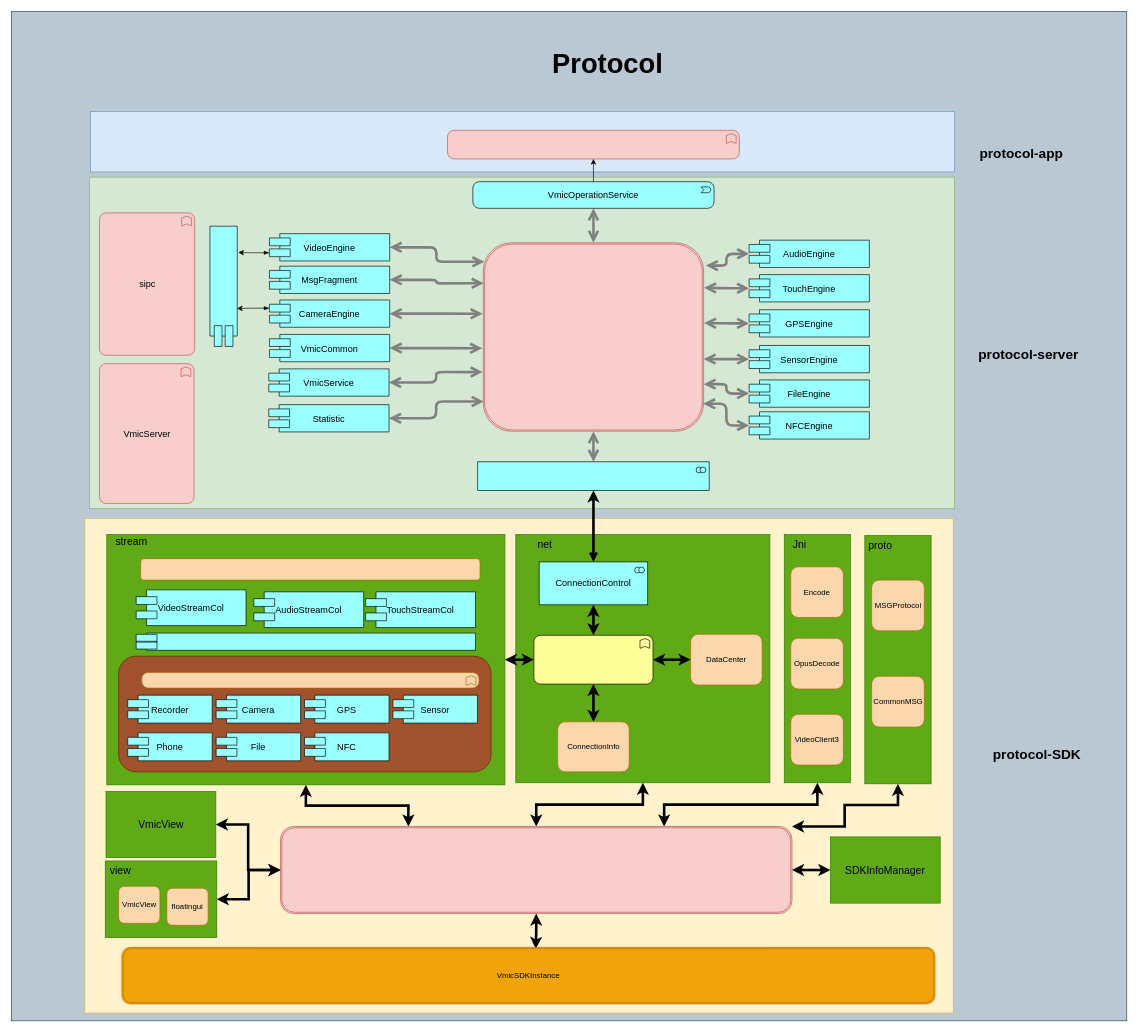
This 1138x1032 diagram has some shape labels left out. Each missing label, with the box of its shape:
Codec: (209, 226, 237, 346)
CommandStreamCol: (136, 632, 475, 650)
Communication: (477, 461, 709, 490)
CommunicationManager: (533, 635, 653, 684)
RemoteOperation: (447, 130, 739, 159)
StreamManager: (140, 558, 480, 580)
ThirdServiceControl: (141, 672, 479, 688)
VmicAgent: (483, 242, 704, 431)
VmicSDKManager: (280, 826, 792, 914)
